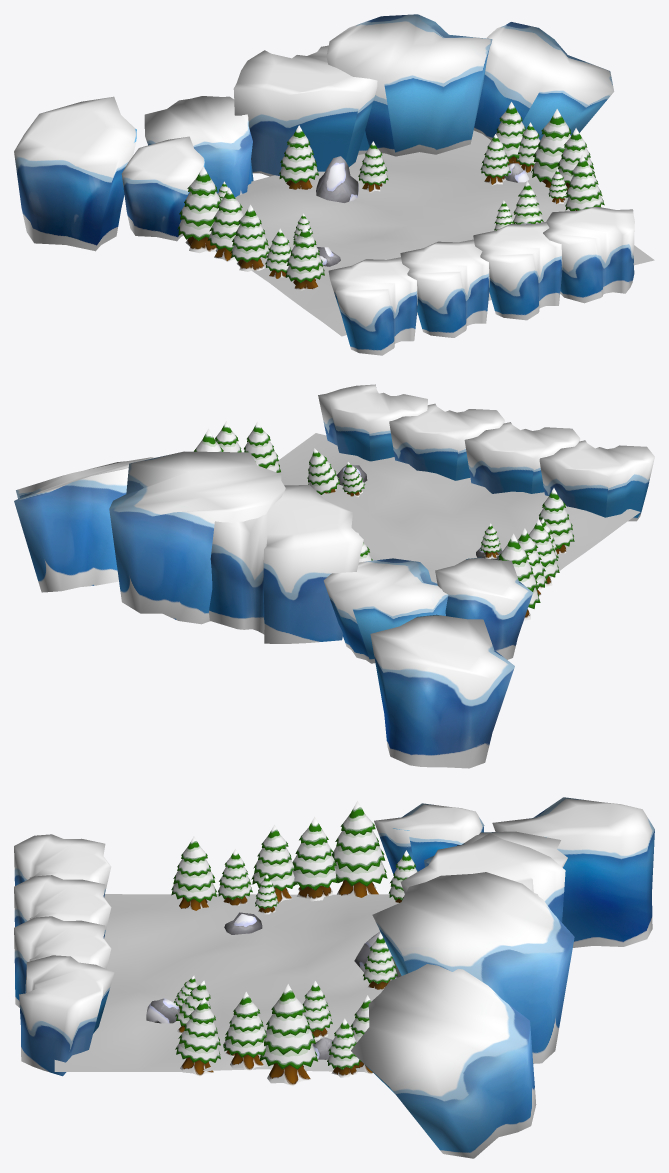
File: Map_1_A_4.FBX
3 views of the same model, one above another, from view 1: azimuth 30°, elevation 25°; view 2: azimuth 150°, elevation 25°; view 3: azimuth 270°, elevation 25° (orthographic). The views are drawn at different scales.
Parts seen in each view (by area): view 1: tereno1, Iceberg016, Iceberg024, Iceberg018, Iceberg017, Iceberg011, Iceberg023, Iceberg022, Iceberg021, Iceberg019, Iceberg01, Three057 (+14 smaller); view 2: Iceberg016, tereno1, Iceberg018, Iceberg024, Iceberg017, Iceberg019, Iceberg023, Iceberg01, Iceberg022, Iceberg021, Iceberg011, Three009 (+5 smaller); view 3: tereno1, Iceberg017, Iceberg016, Iceberg024, Iceberg011, Iceberg018, Iceberg01, Iceberg021, Iceberg022, Iceberg023, Three089, Three057 (+16 smaller).
Part boxes in pixels (<box>): tereno1: <box>235,130,654,336</box>; Iceberg016: <box>326,14,492,156</box>; Iceberg024: <box>14,96,136,251</box>; Iceberg018: <box>233,45,377,176</box>; Iceberg017: <box>473,22,614,140</box>; Iceberg011: <box>543,206,634,303</box>; Iceberg023: <box>328,257,417,355</box>; Iceberg022: <box>400,239,489,337</box>; Iceberg021: <box>473,221,562,320</box>; Iceberg019: <box>144,96,253,197</box>; Iceberg01: <box>121,136,204,241</box>; Three057: <box>177,166,221,253</box>; Iceberg016: <box>109,451,285,624</box>; tereno1: <box>278,433,640,583</box>; Iceberg018: <box>209,485,363,643</box>; Iceberg024: <box>370,614,514,768</box>; Iceberg017: <box>14,457,156,592</box>; Iceberg019: <box>323,558,448,663</box>; Iceberg023: <box>539,440,654,521</box>; Iceberg01: <box>435,557,532,659</box>; Iceberg022: <box>464,422,580,493</box>; Iceberg021: <box>389,403,504,480</box>; Iceberg011: <box>318,384,427,461</box>; Three009: <box>539,488,574,553</box>; tereno1: <box>54,894,398,1071</box>; Iceberg017: <box>351,964,536,1158</box>; Iceberg016: <box>372,872,574,1063</box>; Iceberg024: <box>492,797,654,947</box>; Iceberg011: <box>19,955,114,1076</box>; Iceberg018: <box>400,833,565,922</box>; Iceberg01: <box>374,803,484,873</box>; Iceberg021: <box>14,916,111,1007</box>; Iceberg022: <box>14,875,111,938</box>; Iceberg023: <box>14,834,111,897</box>; Three089: <box>258,984,317,1086</box>; Three057: <box>332,801,387,897</box>.
Bounding box in the file's own units: 852 × 240 × 764.
